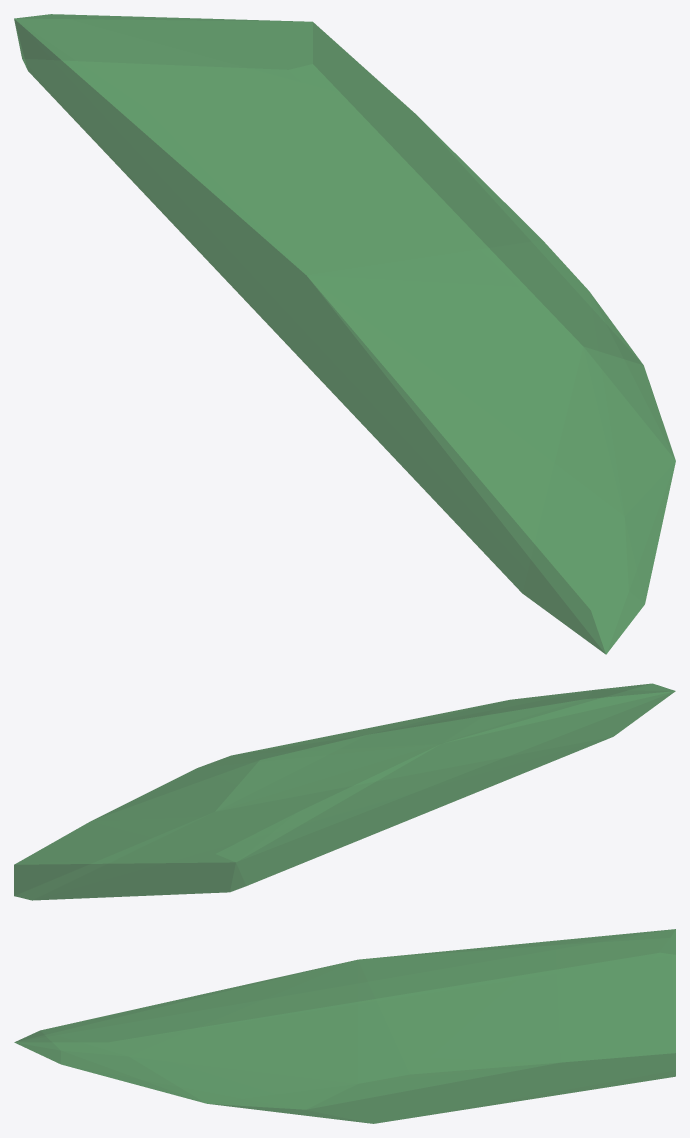
The picture shows the model from 3 angles, top to bottom: view 1: azimuth 30°, elevation 25°; view 2: azimuth 150°, elevation 25°; view 3: azimuth 270°, elevation 25°; orthographic projection. The views are drawn at different scales.
Visible parts, largest first — view 1: Shape_IndexedFaceSet.003_Shape_IndexedFaceSet.14036; view 2: Shape_IndexedFaceSet.003_Shape_IndexedFaceSet.14036; view 3: Shape_IndexedFaceSet.003_Shape_IndexedFaceSet.14036.
Boxes of the visible parts, x1,y1,x2,y2 form: Shape_IndexedFaceSet.003_Shape_IndexedFaceSet.14036: (14,14,675,654); Shape_IndexedFaceSet.003_Shape_IndexedFaceSet.14036: (14,683,675,900); Shape_IndexedFaceSet.003_Shape_IndexedFaceSet.14036: (14,929,675,1123).
Size of the model in its own units: 0.1237 by 0.0803 by 0.4247.
